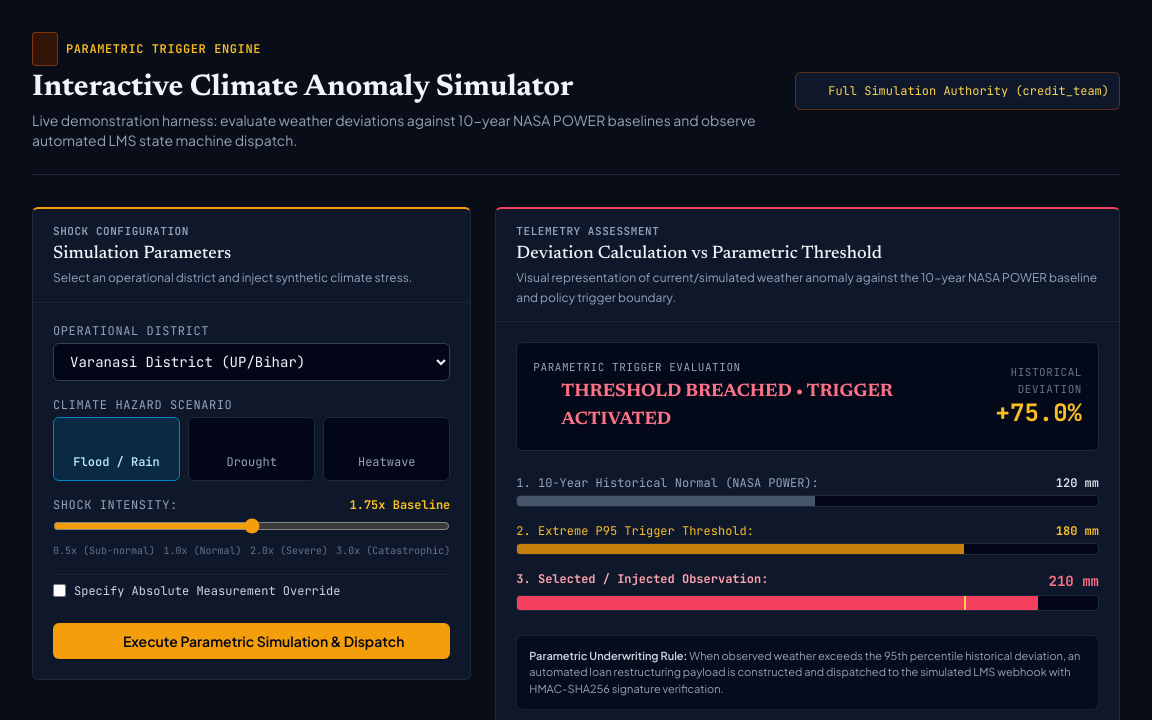
Test: TriggerSimulator View › switches hazard type to drought and updates unit labels
Click the button "Drought".
click(252, 449)  # box top-left (188, 417), bottom-right (315, 481)
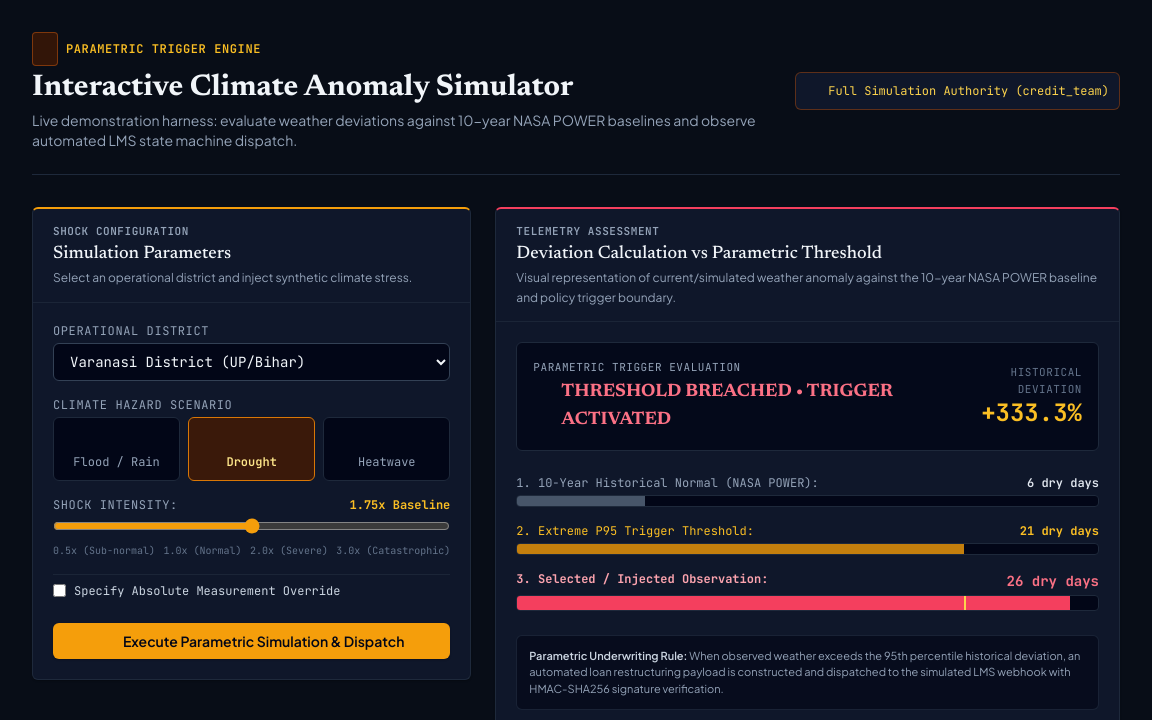
Result: the text "6 dry days" is shown at top-left (1027, 475), bottom-right (1099, 491)
